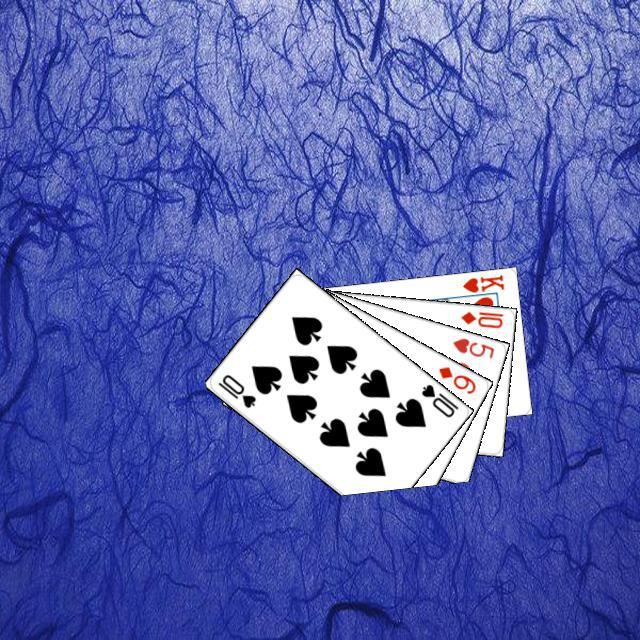10d: (456, 306, 505, 330)
10s: (213, 369, 258, 410), (416, 379, 460, 419)
5h: (447, 333, 496, 360)
6d: (433, 361, 478, 396)
Kh: (455, 270, 506, 299)
